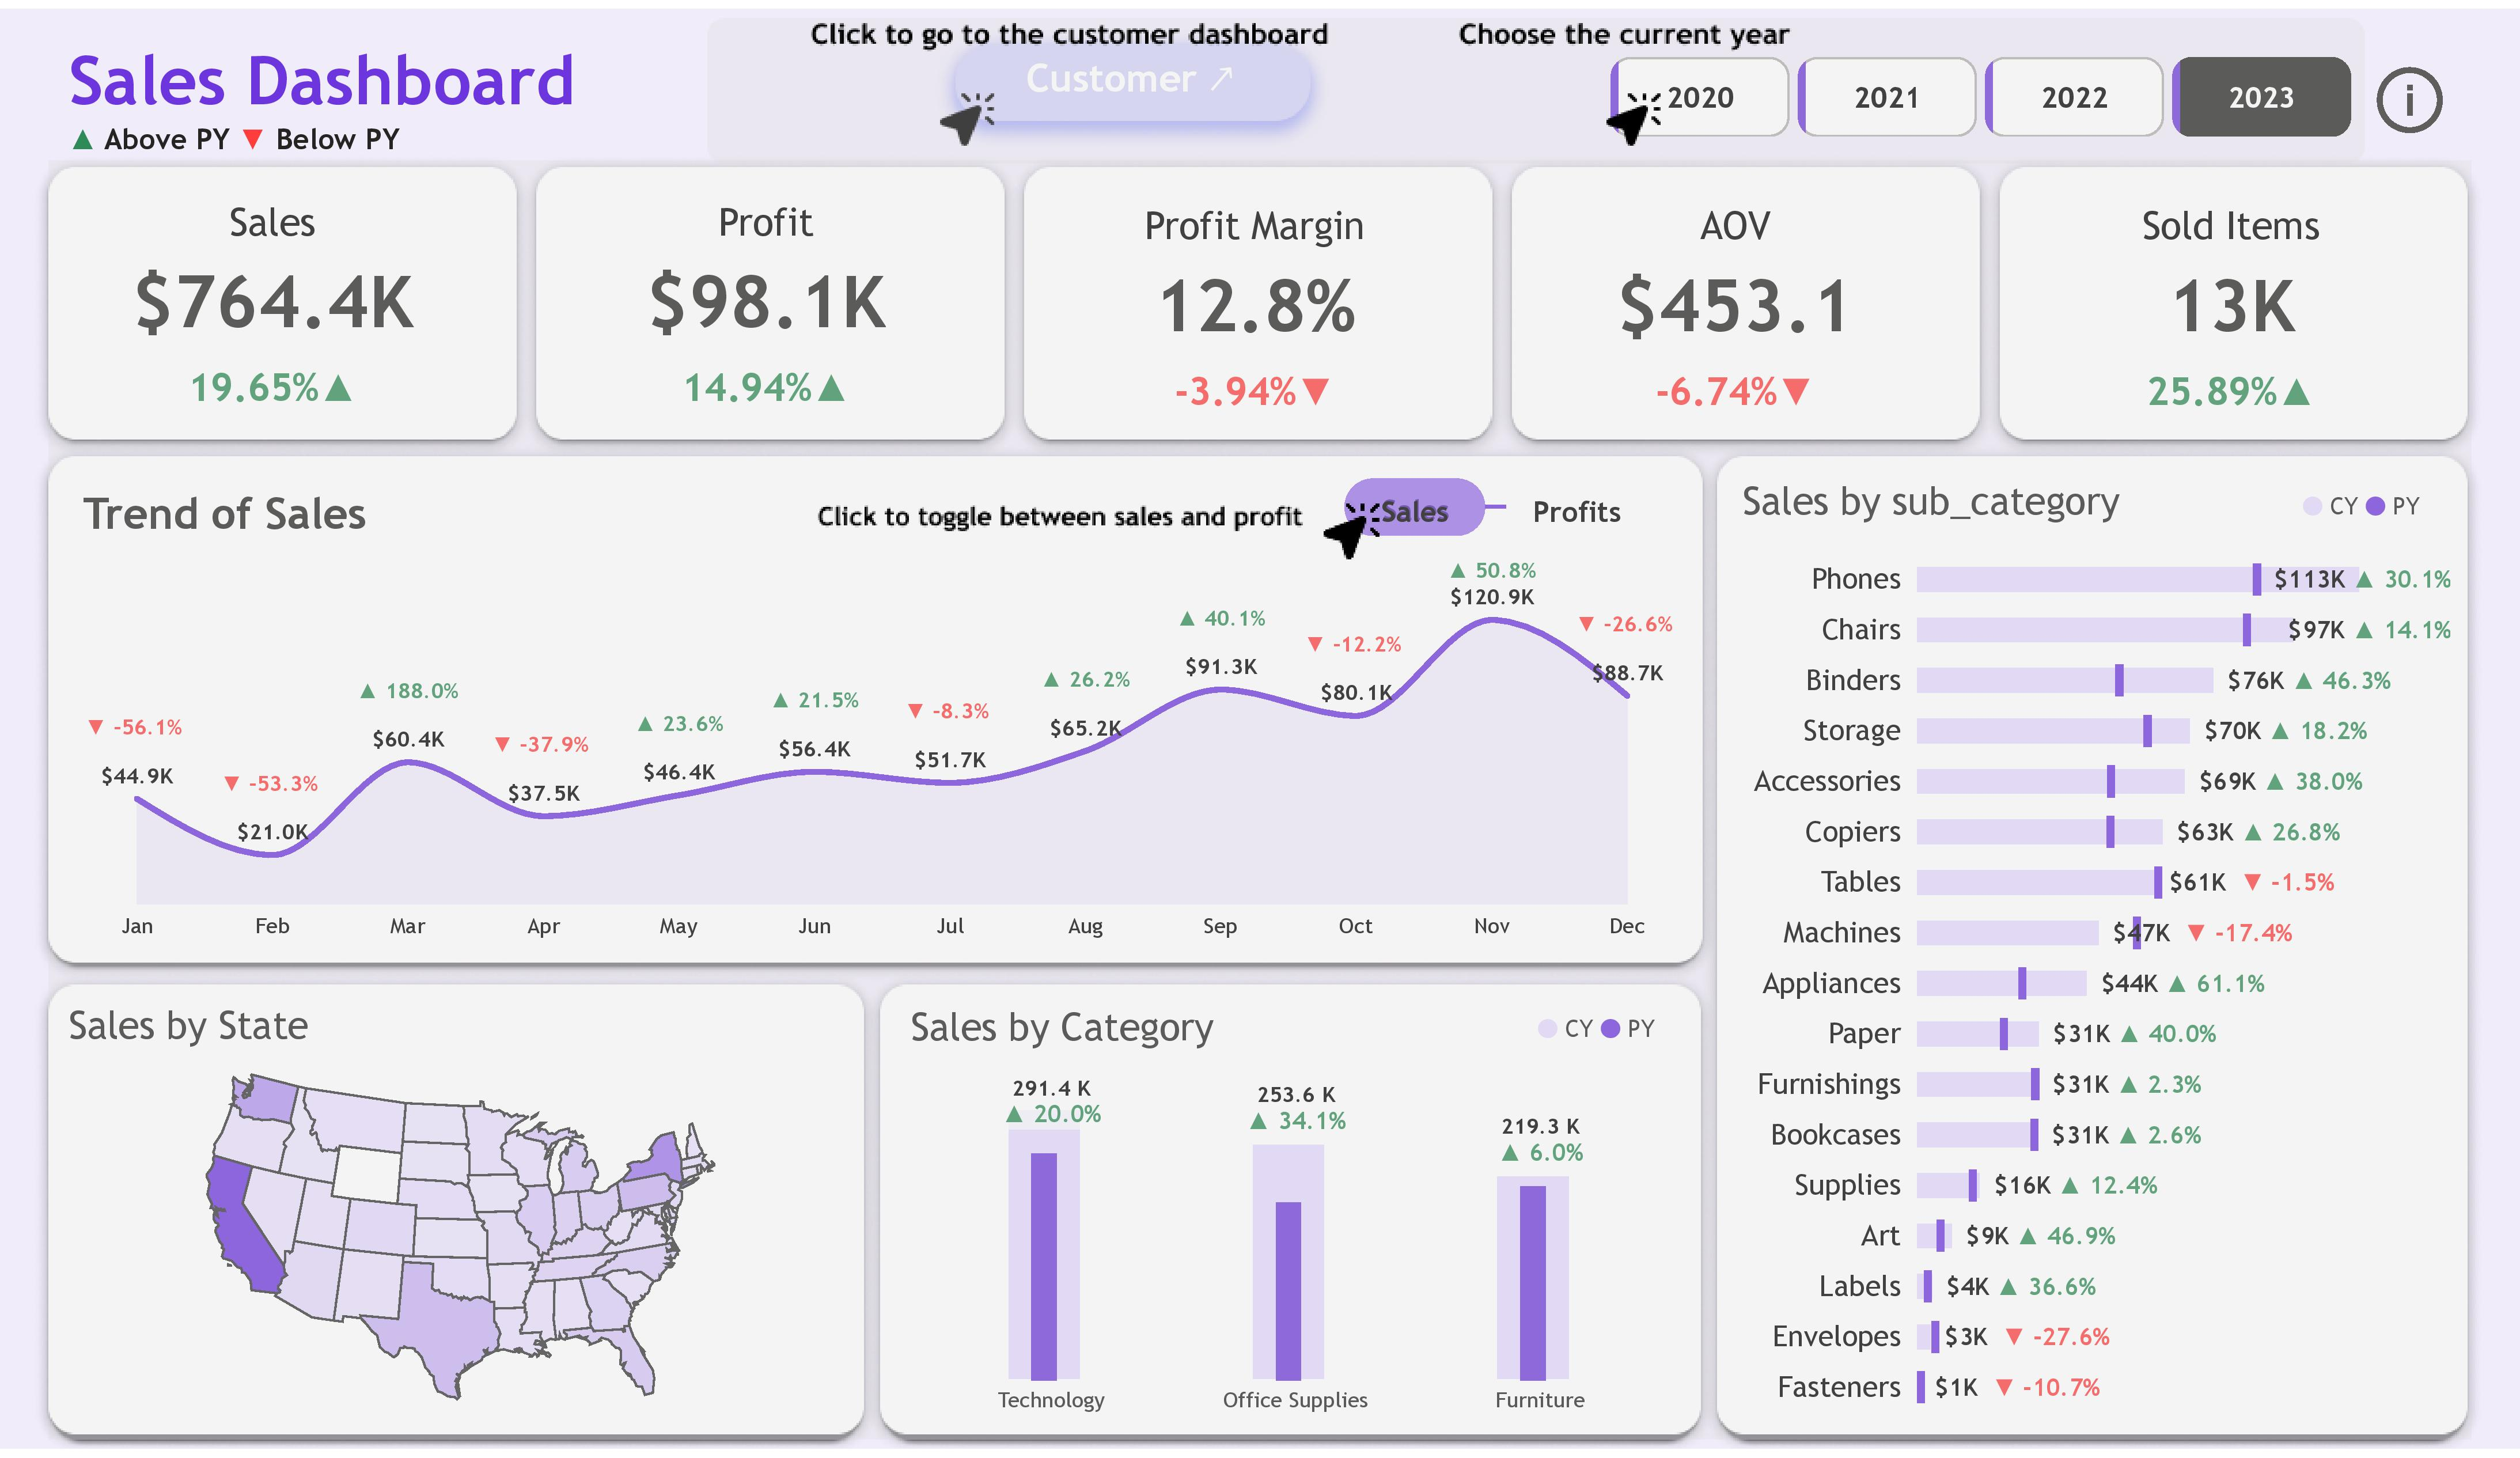

This screenshot's page, from the dashboard's own definition file:
{"tool":"powerbi","page":{"name":"Sales Dashboard","canvas":[1400,800],"ordinal":2},"visuals":[{"type":"cardVisual","fields":{"Data":["Measure.Profit Margin"]},"box":[600,91.3,194.4,148.1],"z":0},{"type":"actionButton","box":[747.7,260.4,77.3,31.9],"z":2000},{"type":"cardVisual","fields":{"Data":["Measure.Total Sales"]},"box":[48.9,91.3,205,148.1],"z":3000},{"type":"cardVisual","fields":{"Data":["Measure.Profit"]},"box":[322.8,91.3,205,148.1],"z":4000},{"type":"cardVisual","fields":{"Data":["Measure.AOV"]},"box":[859,91.3,210.3,148.1],"z":5000},{"type":"areaChart","title":"Trend of Sales","fields":{"Category":["Date.Month"],"Y":["Measure.Total Sales","Measure.Label2"]},"box":[41,260.6,898.2,264.6],"z":6000},{"type":"actionButton","box":[837.3,260.6,78,31.7],"z":7000},{"type":"actionButton","box":[747.4,260.6,78,31.7],"z":8000},{"type":"shapeMap","fields":{"Value":["Measure.Sales"],"Category":["dim_location.state"]},"box":[33.1,551.6,441.8,236.8],"z":10000},{"type":"clusteredBarChart","title":"Sales by sub_category","fields":{"Y":["Measure.Sales"],"Category":["dim_products.sub_category"]},"box":[963,260.6,403.4,527.8],"z":11000},{"type":"textbox","box":[33.1,13.2,318.8,66.1],"z":12000},{"type":"shape","box":[825,253.7,11.8,45.4],"z":13000},{"type":"cardVisual","fields":{"Data":["Measure.Items Sold"]},"box":[1138.9,91.3,201.1,148.1],"z":14000},{"type":"actionButton","box":[1316,25,47.6,49],"z":16000},{"type":"lineClusteredColumnComboChart","title":"Sales by Category","fields":{"Y":["Measure.Sales"],"Y2":["Measure.Base Label"],"Category":["dim_products.category"]},"box":[501.3,552.9,437.8,235.5],"z":17000},{"type":"advancedSlicerVisual","fields":{"Values":["Date.Year"]},"box":[870,22,464.3,54],"z":18000},{"type":"textbox","box":[849.2,551.6,89.9,30.4],"z":19000},{"type":"textbox","box":[1273.8,261.9,89.9,30.4],"z":20000},{"type":"textbox","box":[33,58,210.3,33.1],"z":21000},{"type":"actionButton","box":[529,21,198,37],"z":22000}]}

Visuals, with their boxes in screenshot pixels (x1, y1, x2, y2), scaled from the page's 1400x800 canvas onto the 2520x1458 screenshot:
cardVisual - Measure.Profit Margin: x1=1080 y1=166 x2=1430 y2=436
actionButton: x1=1346 y1=475 x2=1485 y2=533
cardVisual - Measure.Total Sales: x1=88 y1=166 x2=457 y2=436
cardVisual - Measure.Profit: x1=581 y1=166 x2=950 y2=436
cardVisual - Measure.AOV: x1=1546 y1=166 x2=1925 y2=436
"Trend of Sales" areaChart: x1=74 y1=475 x2=1691 y2=957
actionButton: x1=1507 y1=475 x2=1647 y2=533
actionButton: x1=1346 y1=475 x2=1486 y2=533
shapeMap - Measure.Sales x dim_location.state: x1=59 y1=1005 x2=855 y2=1437
"Sales by sub_category" clusteredBarChart: x1=1733 y1=475 x2=2460 y2=1437
textbox: x1=59 y1=24 x2=634 y2=145
shape: x1=1485 y1=463 x2=1506 y2=545
cardVisual - Measure.Items Sold: x1=2050 y1=166 x2=2412 y2=436
actionButton: x1=2369 y1=46 x2=2454 y2=135
"Sales by Category" lineClusteredColumnComboChart: x1=903 y1=1008 x2=1691 y2=1437
advancedSlicerVisual - Date.Year: x1=1566 y1=40 x2=2402 y2=138
textbox: x1=1529 y1=1005 x2=1691 y2=1061
textbox: x1=2293 y1=478 x2=2455 y2=533
textbox: x1=59 y1=105 x2=438 y2=166
actionButton: x1=952 y1=38 x2=1309 y2=105
